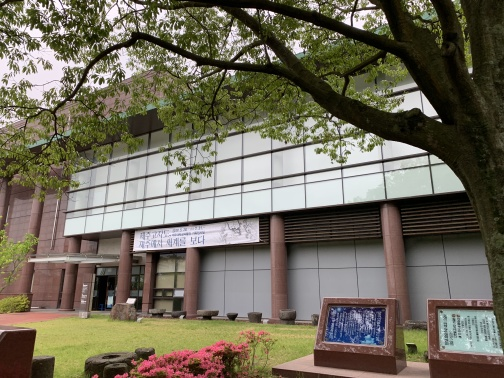Museum: (7, 110, 444, 320)
